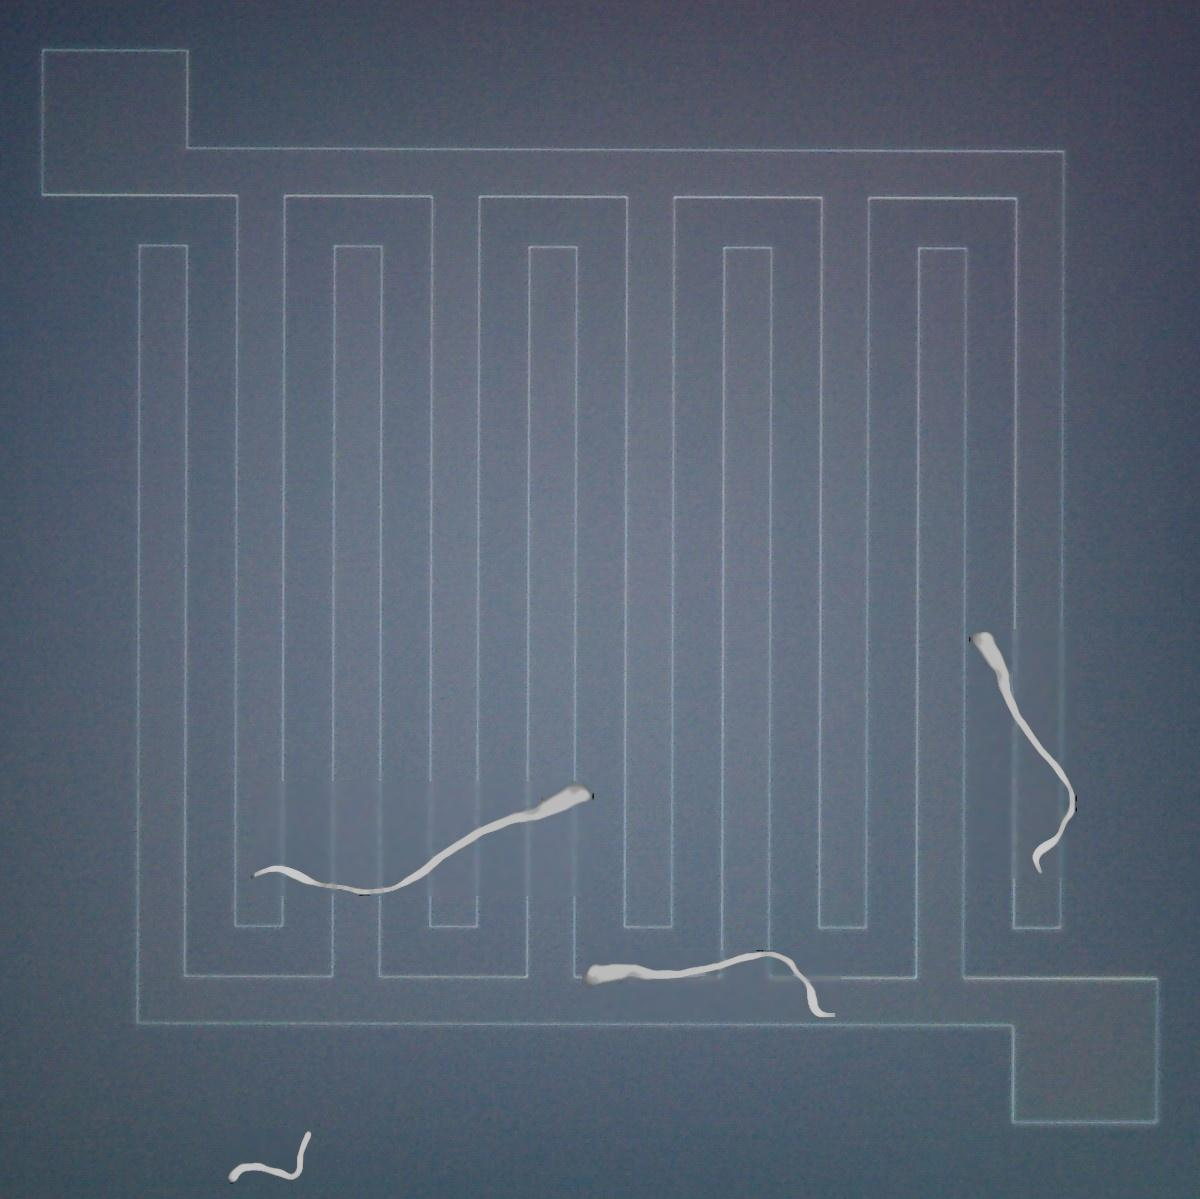foreign: (245, 773, 602, 907), (965, 615, 1086, 886), (573, 945, 842, 1030), (221, 1121, 316, 1187)
